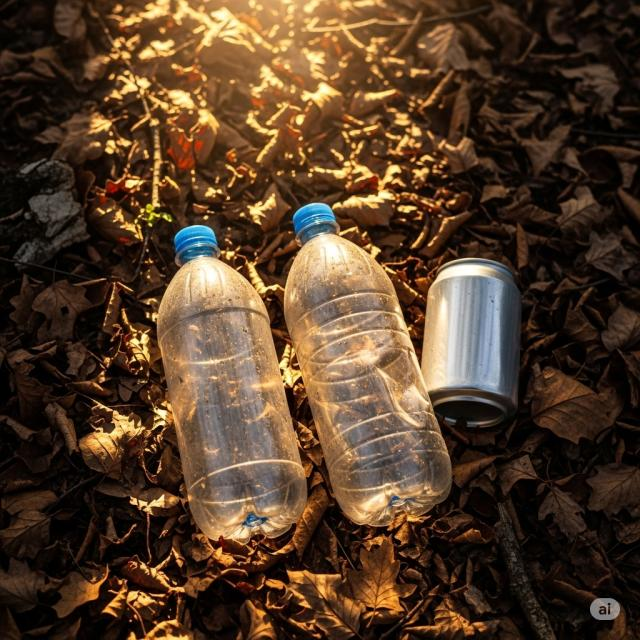aluminum: (420, 255, 524, 428)
plastic: (281, 199, 452, 525), (156, 223, 312, 546)
